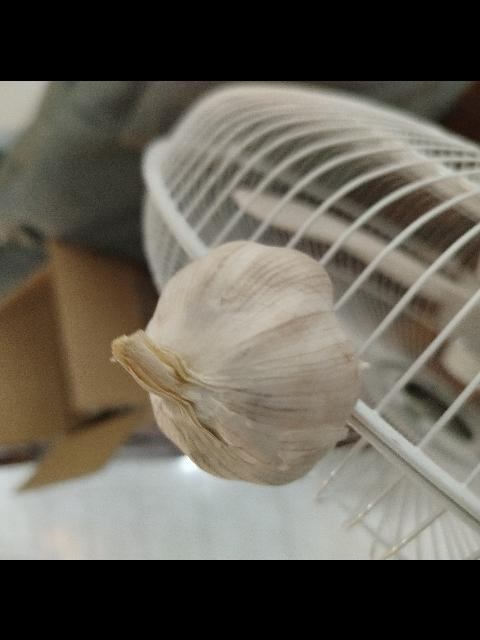garlic: (109, 238, 367, 486)
